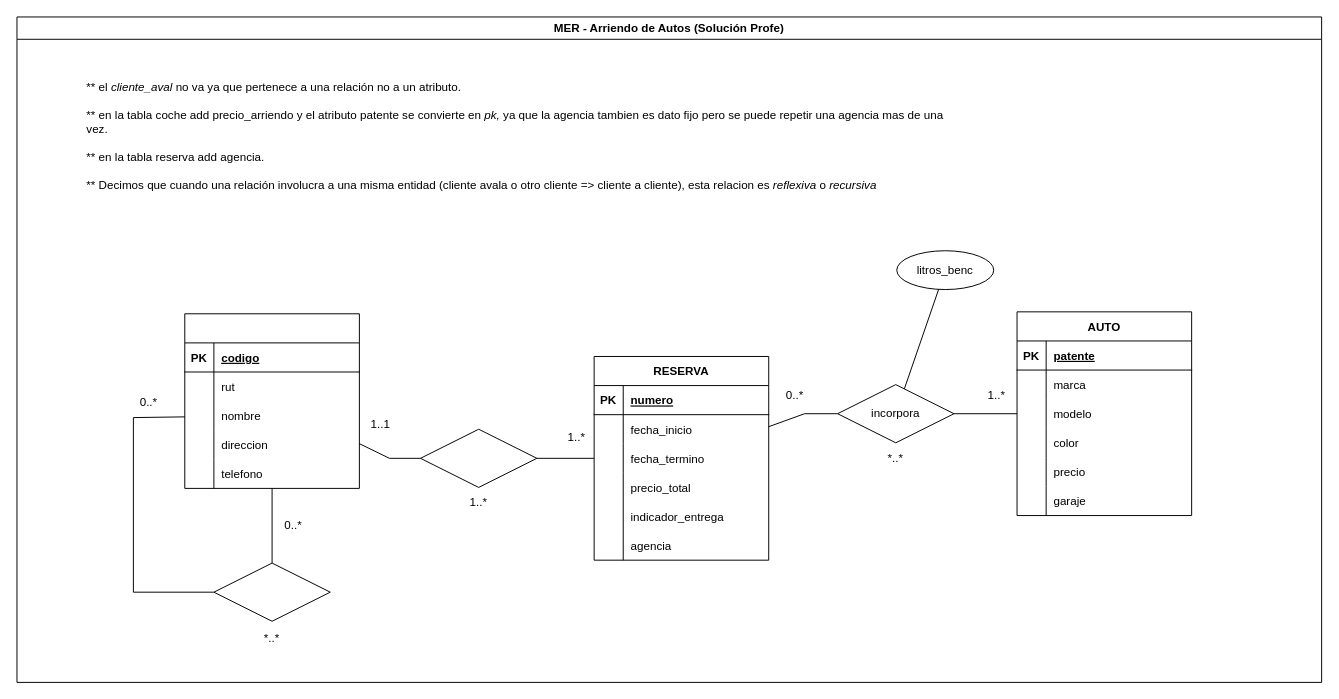
This 1339x699 diagram has some shape labels left out. Here are the shapes that lost their labels. From the top down, the box of each, then its label:
(184, 313, 359, 488): CLIENTE
(420, 428, 537, 487): hace
(213, 562, 330, 621): avala
